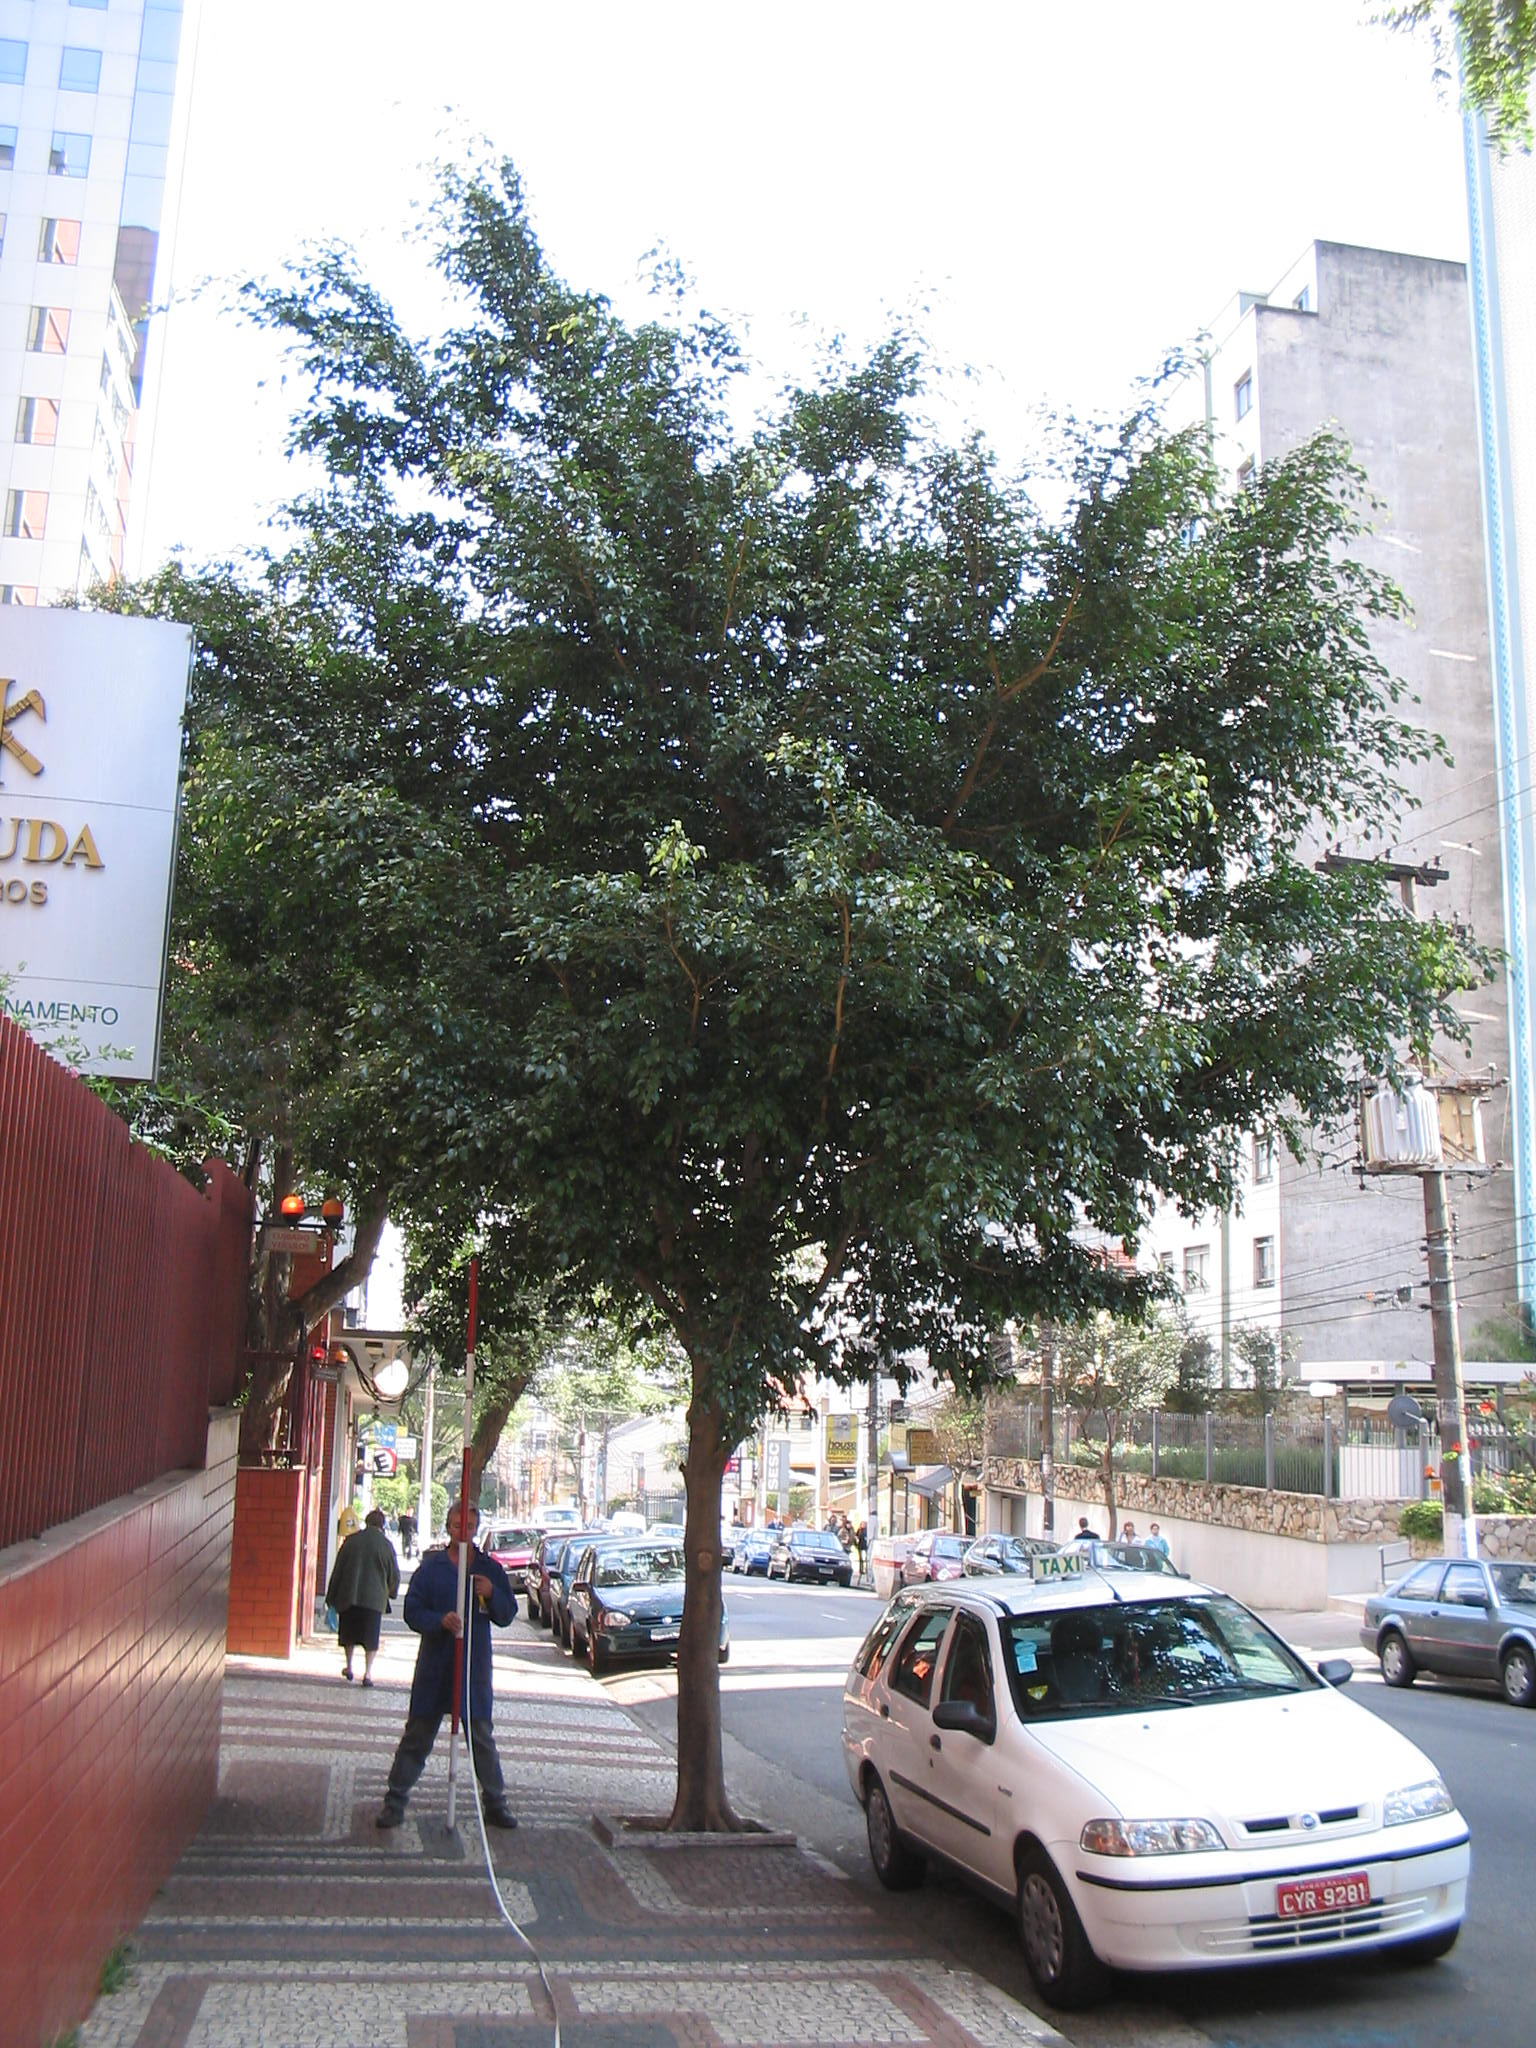crown: (60, 103, 1517, 1405)
stem: (637, 1429, 786, 1832)
stick: (437, 1258, 490, 1832)
tree: (52, 100, 1518, 1837)
